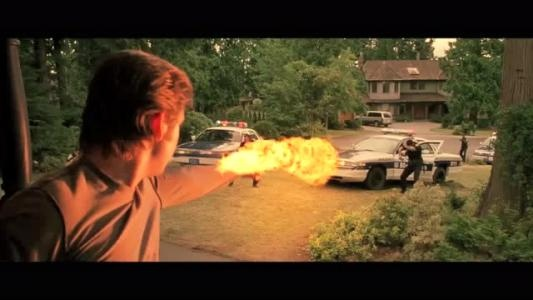fire: (215, 136, 341, 186)
